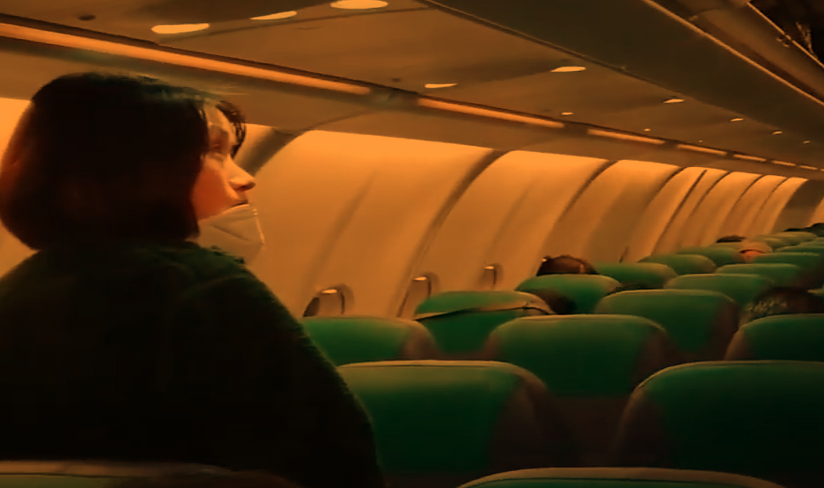mask_weared_incorrect: (102, 68, 269, 265)
